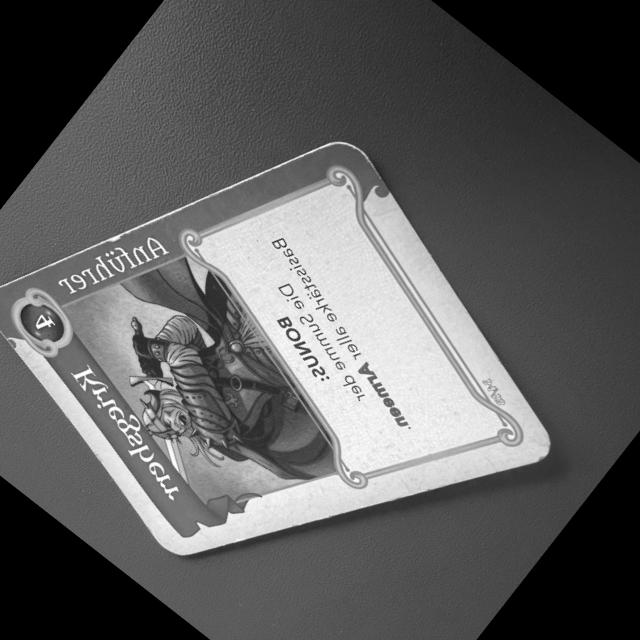Warlord: (0, 129, 570, 568)
